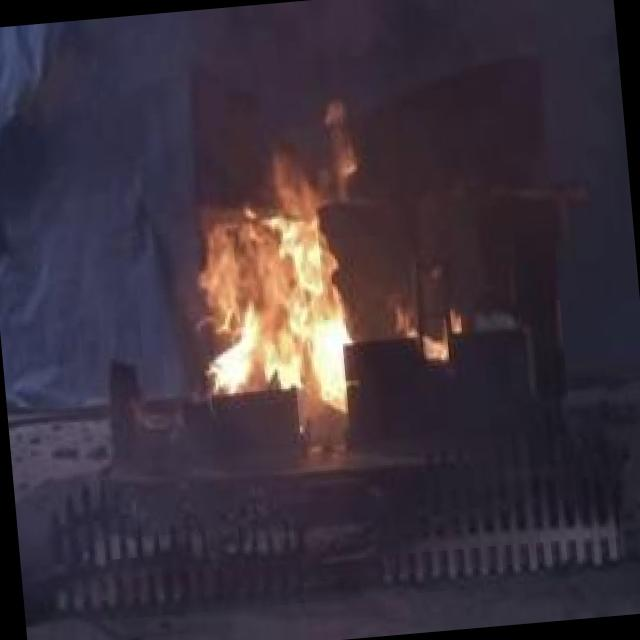fire: (166, 88, 382, 420)
